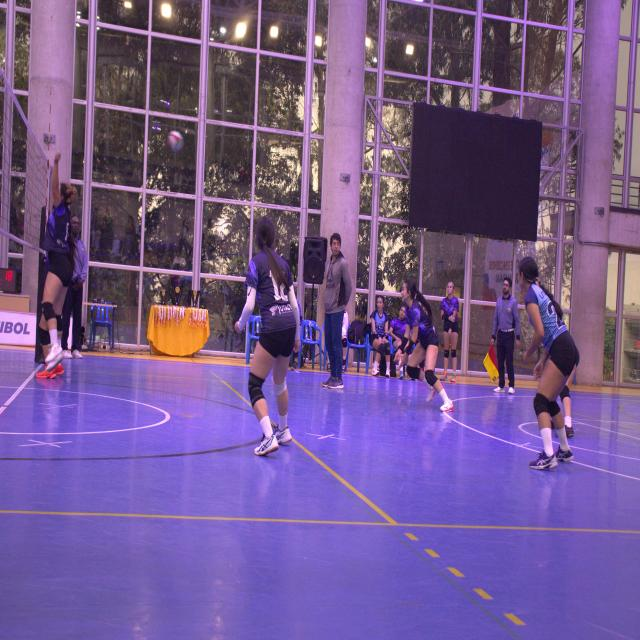volleyball: (168, 131, 184, 152)
